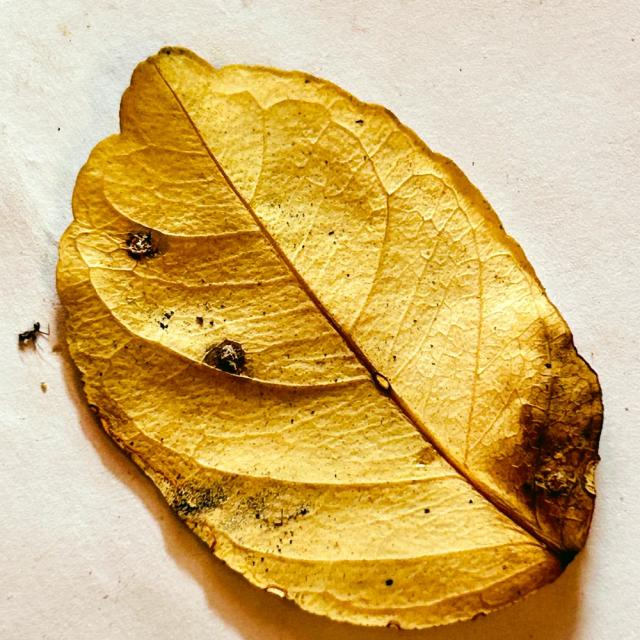DryLeaf_Lemon: (57, 47, 602, 628)
